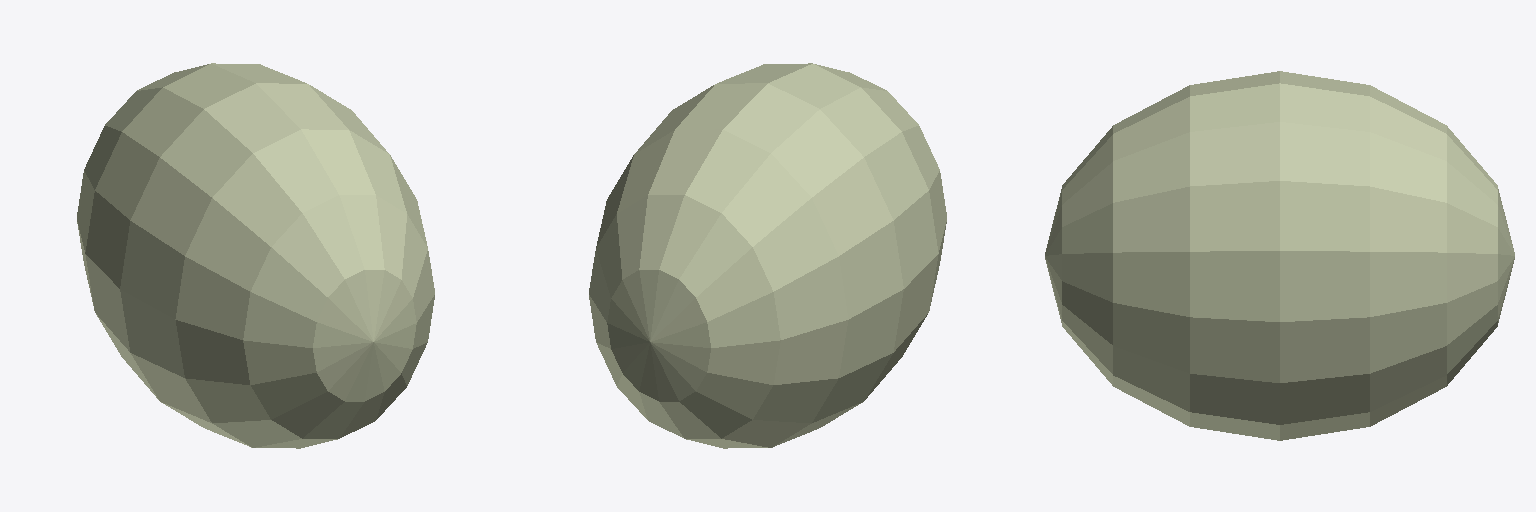
File: Potato.obj
The picture shows the model from 3 angles: view 1: azimuth 30°, elevation 25°; view 2: azimuth 150°, elevation 25°; view 3: azimuth 270°, elevation 25°; orthographic projection.
Parts seen in each view (by area): view 1: sphere1; view 2: sphere1; view 3: sphere1.
Part boxes in pixels (x1,y1,x2,y2): sphere1: (77, 63, 434, 448); sphere1: (589, 63, 946, 448); sphere1: (1045, 71, 1514, 440).
Bounding box in the file's own units: 1 × 1.21 × 1.5.